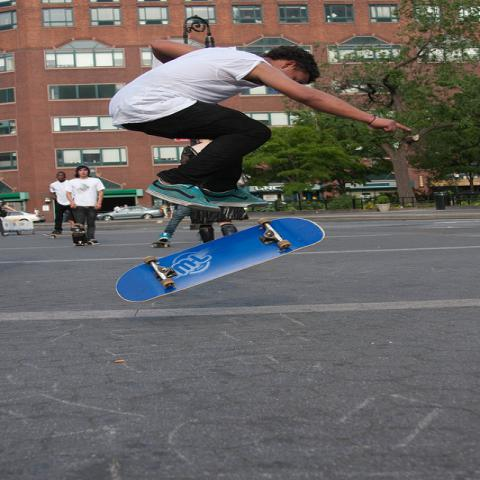car: (95, 206, 166, 220), (4, 204, 42, 225)
